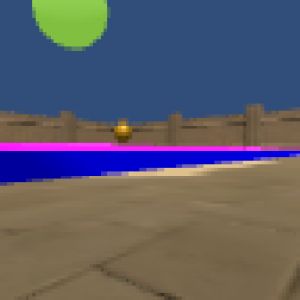goodGoal: (31, 1, 113, 53)
goodGoalMulti: (110, 120, 134, 145)
platform: (1, 153, 297, 182)
ramp: (1, 143, 281, 152)
